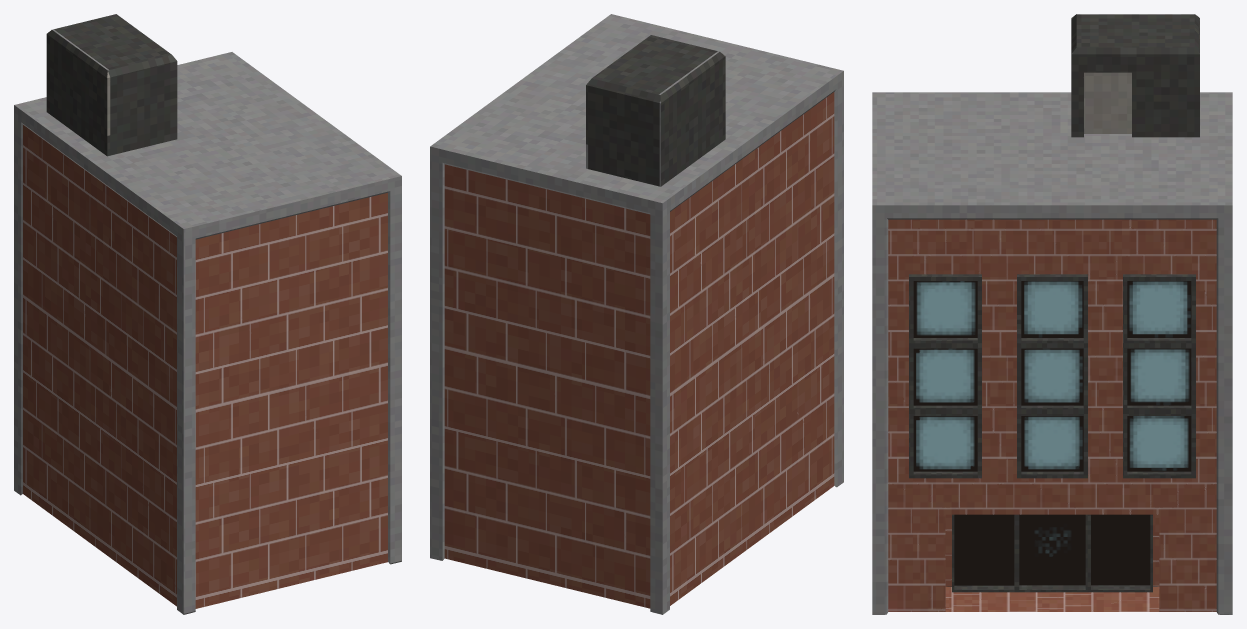
File: build1c2.glb
3 renders of one model, left to right at view 1: azimuth 30°, elevation 25°; view 2: azimuth 150°, elevation 25°; view 3: azimuth 270°, elevation 25°, orthographic. The views are drawn at different scales.
Visible parts, largest first — view 1: Cube.001, roof.001; view 2: Cube.001, roof.001; view 3: front.001, roof.001, window.001, contourfen.001.
Part boxes in pixels (x1,y1,x2,y2): Cube.001: (23, 125, 387, 608); roof.001: (14, 14, 401, 614); Cube.001: (444, 92, 834, 608); roof.001: (430, 14, 843, 614); front.001: (888, 219, 1216, 611); roof.001: (872, 14, 1232, 614); window.001: (913, 281, 1191, 585); contourfen.001: (909, 274, 1195, 592).
Size of the model in its own units: 2.06 by 4.16 by 2.73.
5 materials, 5 textured.
